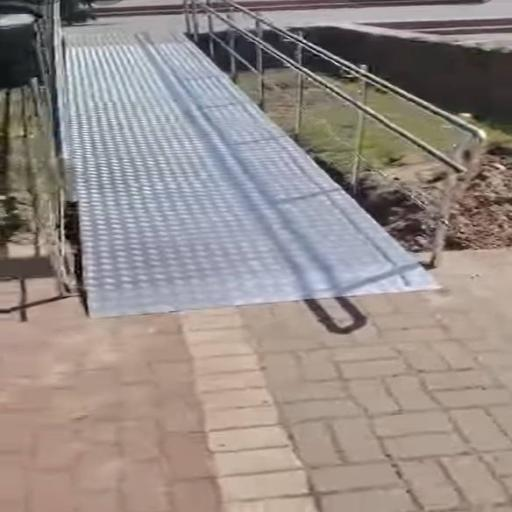entrance: (65, 32, 434, 317)
glass_wall: (0, 251, 512, 512)
